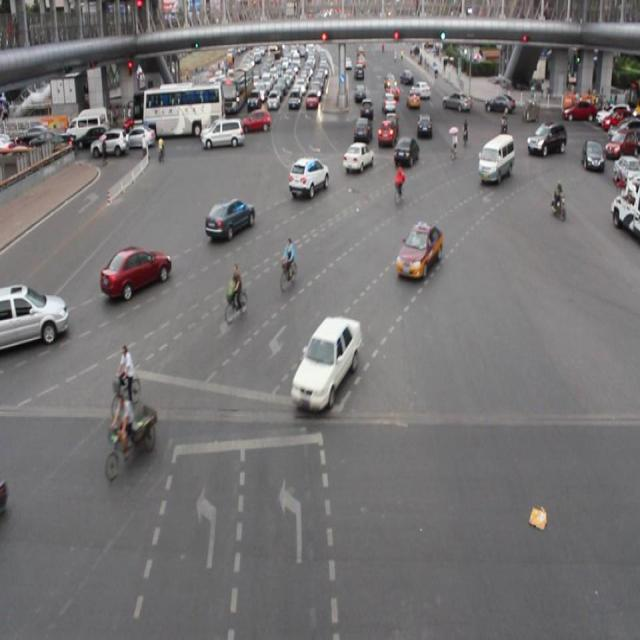car: (290, 314, 357, 407), (100, 245, 172, 298), (394, 222, 442, 279), (203, 199, 255, 241), (286, 157, 329, 200), (526, 122, 565, 160), (343, 140, 374, 175), (391, 136, 419, 168)
truck: (1, 283, 68, 348), (477, 134, 514, 182)
